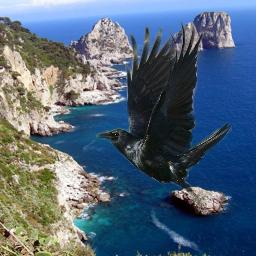Crow: (96, 19, 232, 215)
